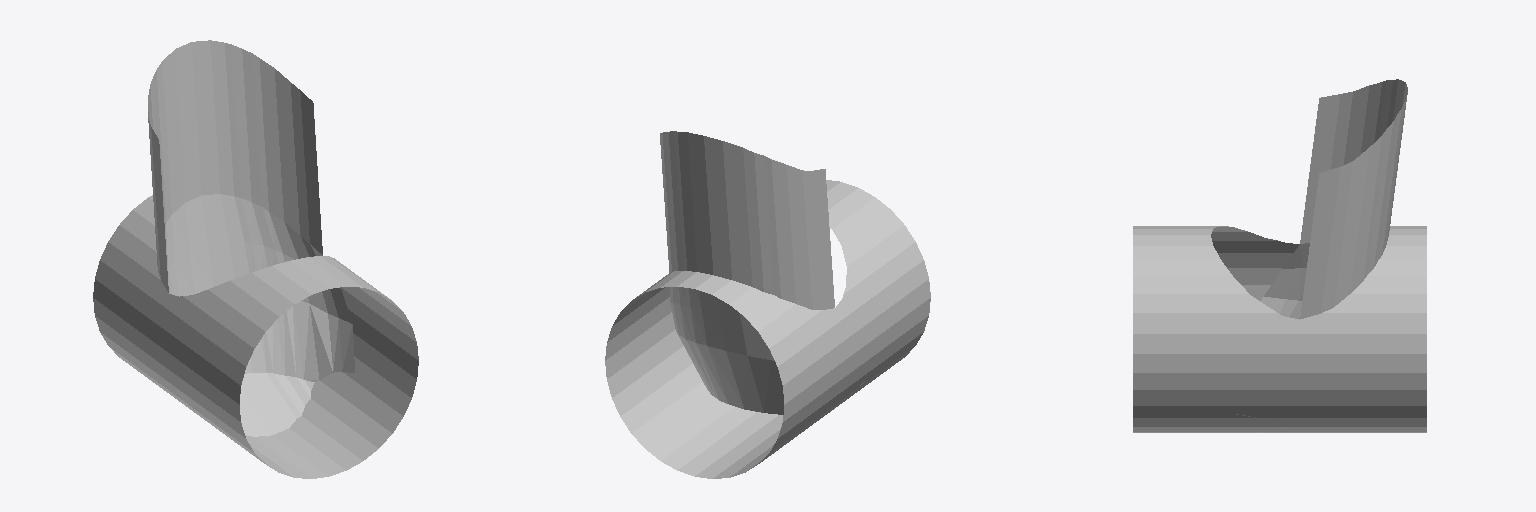
Rendered from cylinder_out_bis.obj.
3 views of the same model, side by side, from view 1: azimuth 30°, elevation 25°; view 2: azimuth 150°, elevation 25°; view 3: azimuth 270°, elevation 25° (orthographic).
Parts seen in each view (by area): view 1: out; view 2: out; view 3: out.
Boxes of the visible parts, x1=… form: out: x1=93, y1=40, x2=418, y2=478; out: x1=605, y1=131, x2=930, y2=478; out: x1=1133, y1=79, x2=1426, y2=432.
Size of the model in its own units: 2.33 by 4.15 by 3.29.